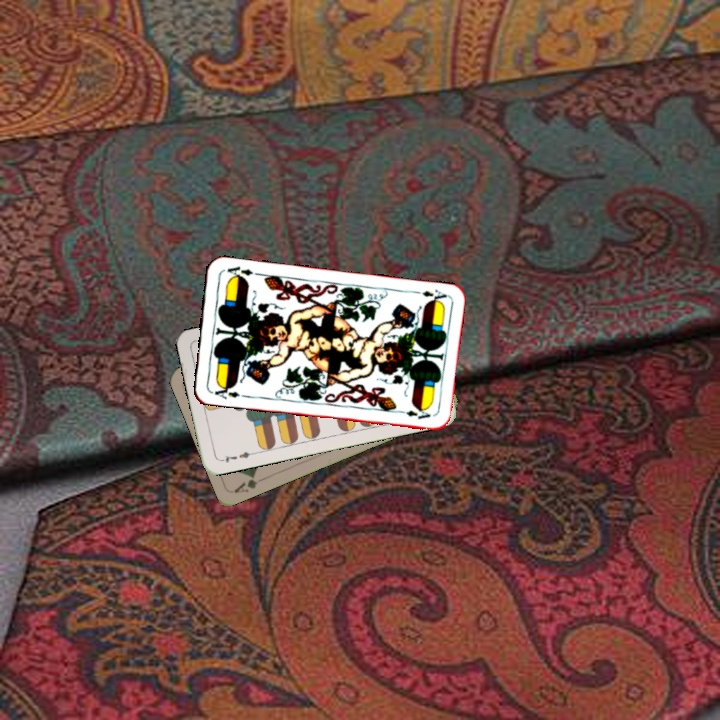E7: (216, 447, 256, 465)
EA: (409, 285, 450, 306), (207, 381, 242, 402)
GA: (230, 470, 261, 496)
